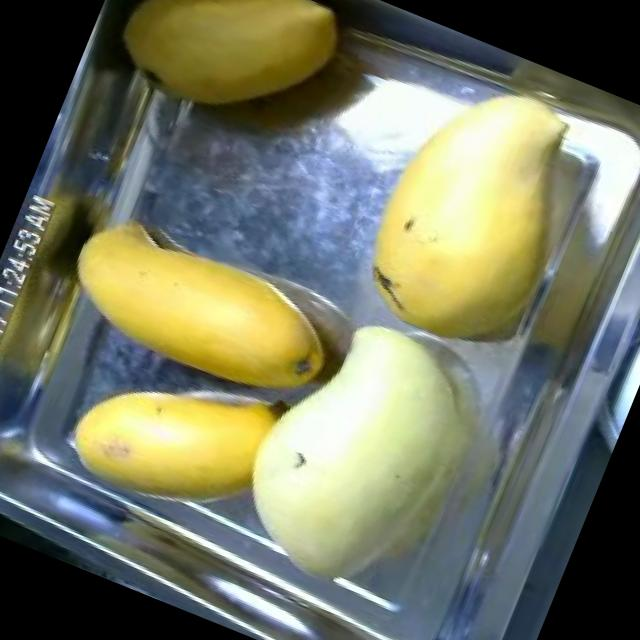fruit: (194, 259, 560, 640), (326, 51, 624, 384), (43, 183, 373, 434), (41, 338, 292, 546), (93, 0, 368, 159)
